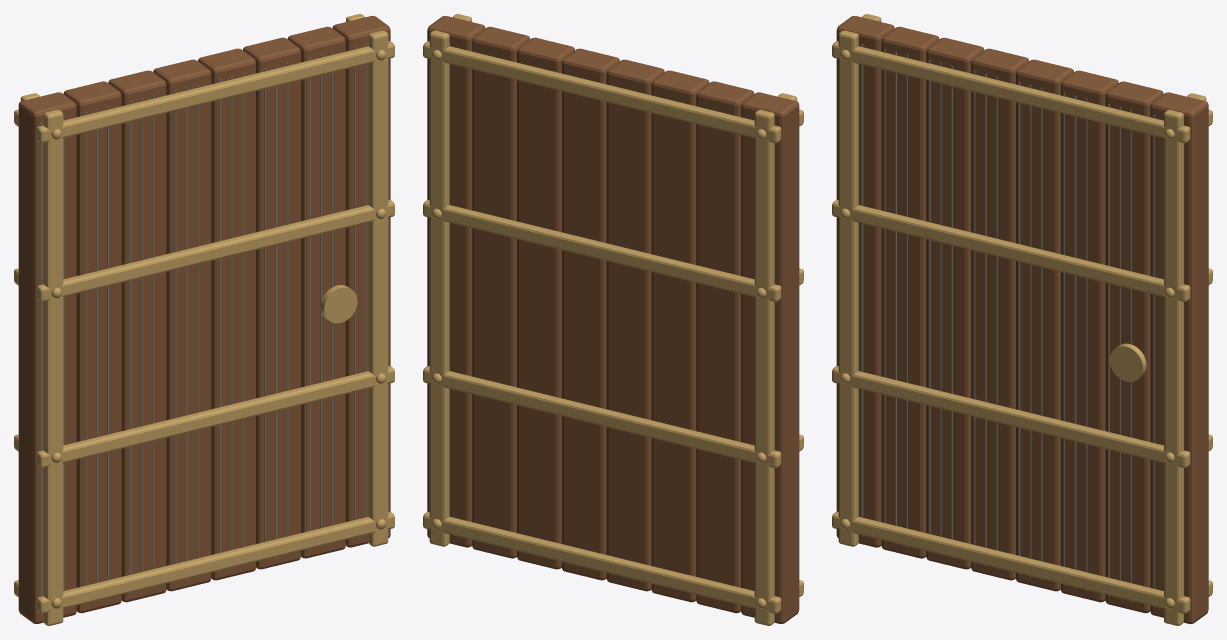
File: wood-leaf.glb
3 views of the same model, side by side, from view 1: azimuth 30°, elevation 25°; view 2: azimuth 150°, elevation 25°; view 3: azimuth 330°, elevation 25° (orthographic).
Visible parts, largest first — view 1: Door plank.016, Vertical bronze stile.008, Cypress grain groove.024; view 2: Door plank.016, Vertical bronze stile.008; view 3: Door plank.016, Vertical bronze stile.008, Cypress grain groove.024.
Part boxes in pixels (x1,y1,x2,y2): Door plank.016: [18, 16, 390, 623]; Vertical bronze stile.008: [14, 14, 394, 625]; Cypress grain groove.024: [40, 43, 366, 615]; Door plank.016: [427, 16, 799, 623]; Vertical bronze stile.008: [423, 14, 803, 625]; Door plank.016: [836, 16, 1208, 623]; Vertical bronze stile.008: [832, 14, 1212, 625]; Cypress grain groove.024: [861, 43, 1154, 607].
Bounding box in the file's own units: 2.57 × 3.52 × 0.414.
